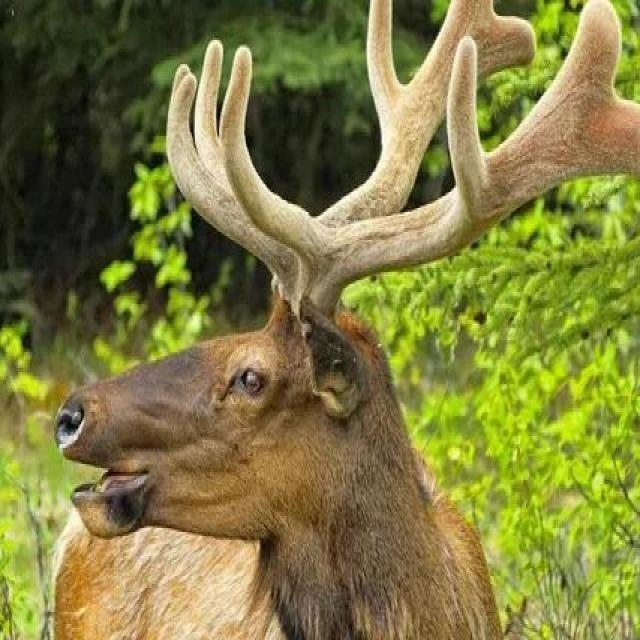deer: (35, 50, 640, 640)
